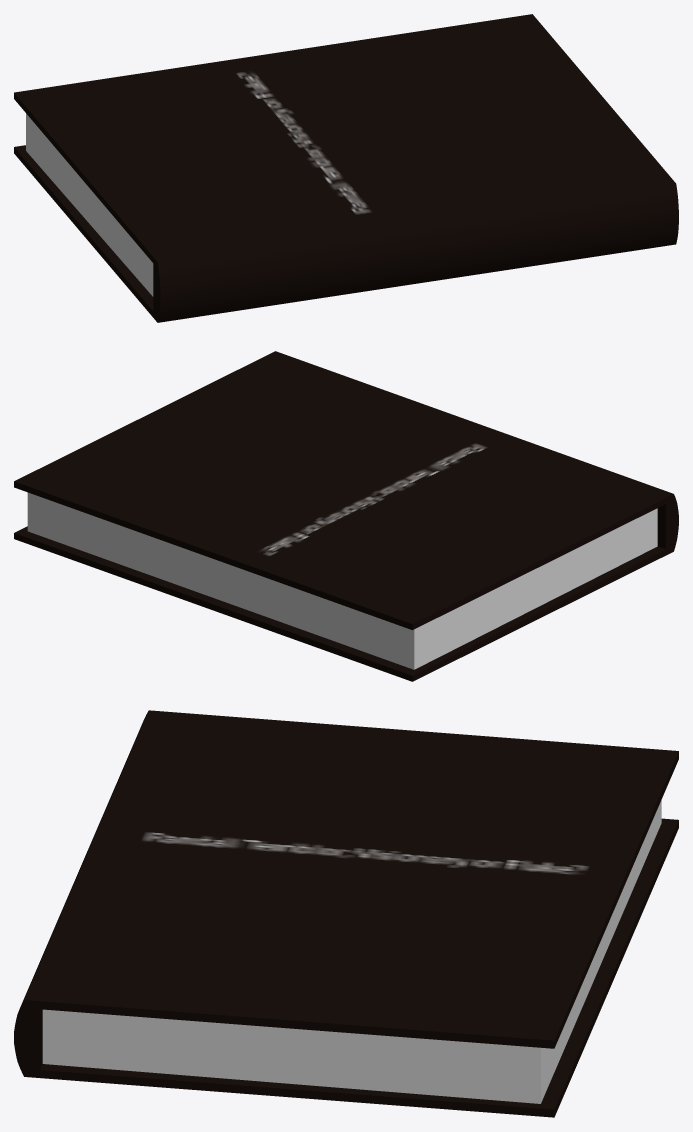
Rendered from TemblorBook.fbx.
The picture shows the model from 3 angles, top to bottom: view 1: azimuth 30°, elevation 25°; view 2: azimuth 150°, elevation 25°; view 3: azimuth 270°, elevation 25°; orthographic projection. The views are drawn at different scales.
Parts seen in each view (by area): view 1: TemblorBook_Baked; view 2: TemblorBook_Baked; view 3: TemblorBook_Baked.
Part boxes in pixels (bbox=[...]): TemblorBook_Baked: bbox=[14, 14, 678, 322]; TemblorBook_Baked: bbox=[14, 351, 678, 681]; TemblorBook_Baked: bbox=[14, 710, 678, 1117].
Bounding box in the file's own units: 31.38 × 3.4 × 26.63.
1 material, 1 textured.
